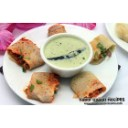dosa: (7, 38, 42, 70), (70, 70, 107, 100), (24, 72, 60, 101), (93, 34, 115, 63), (47, 23, 71, 35)
